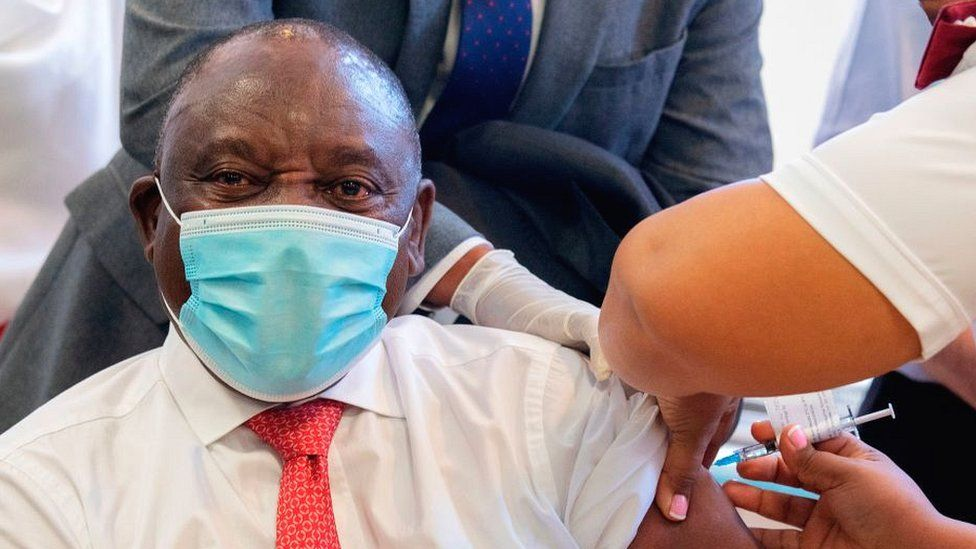with_mask: (171, 106, 405, 405)
